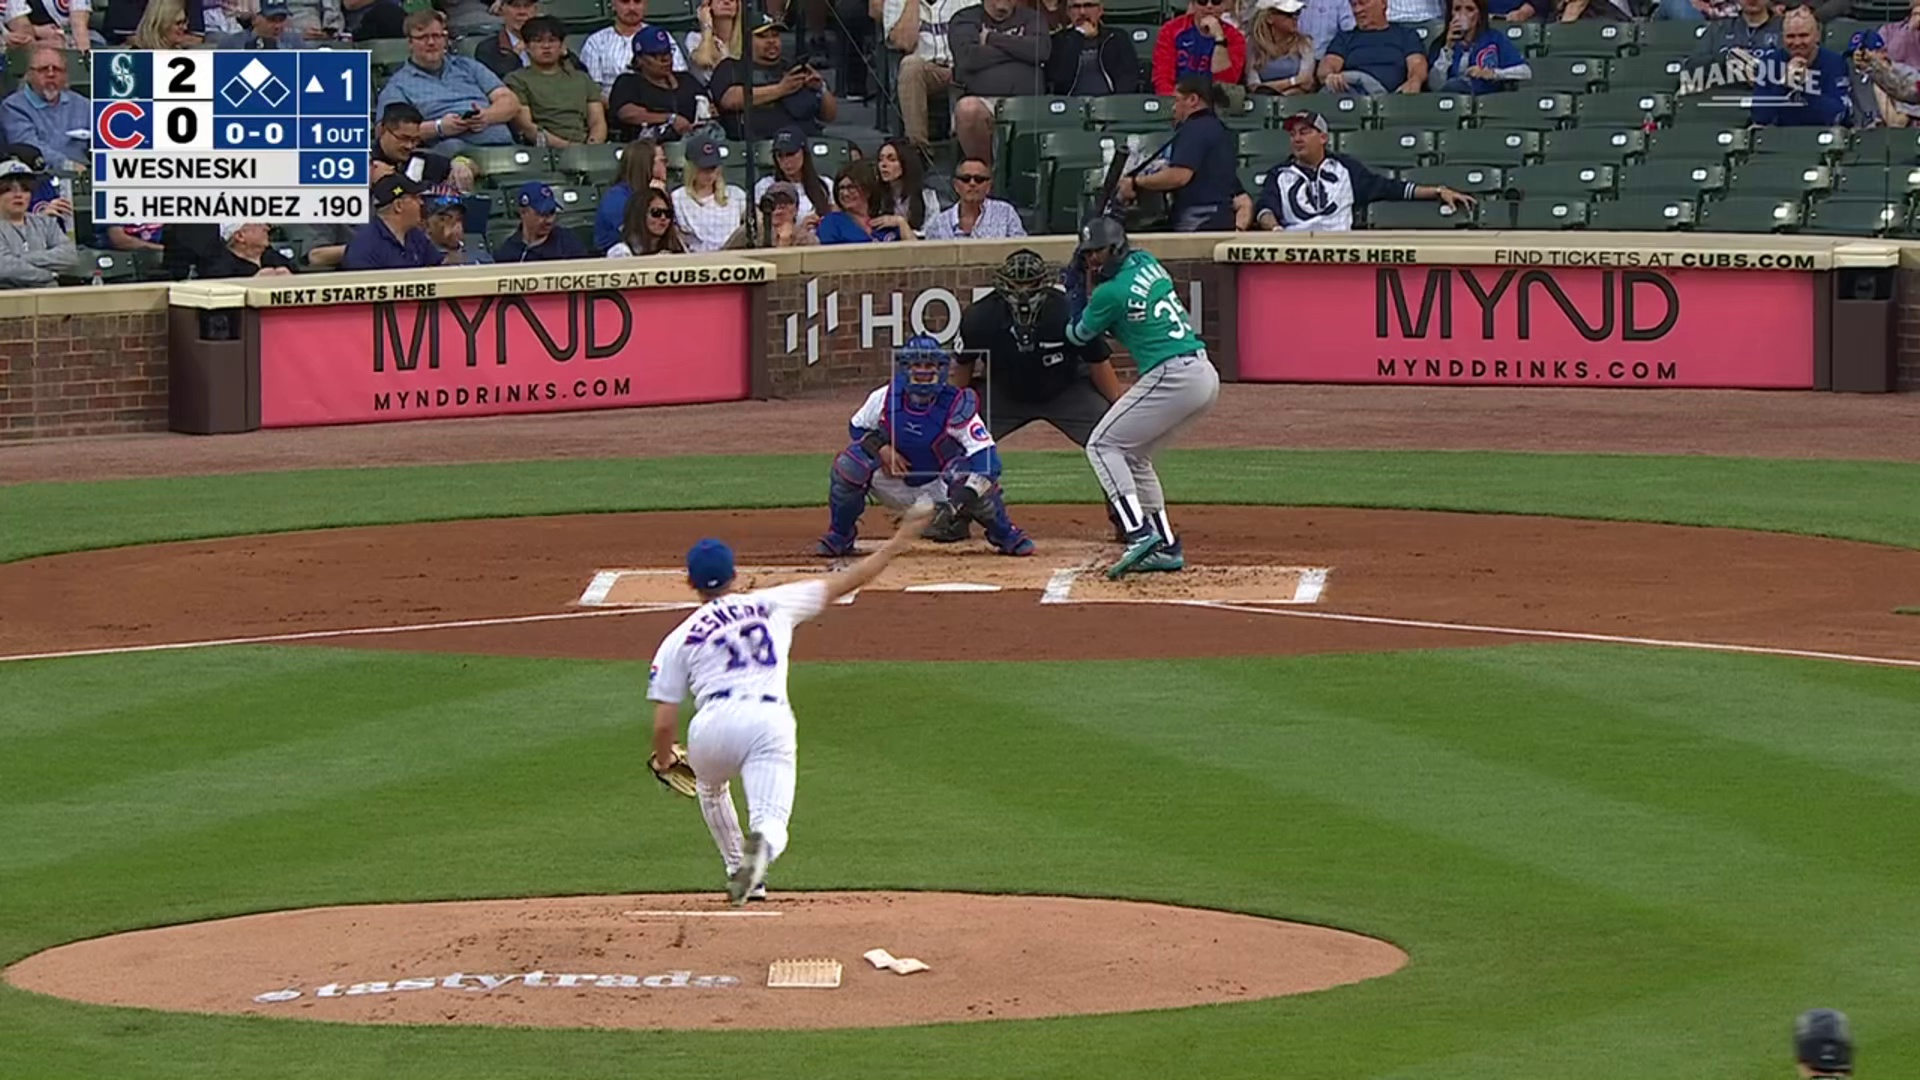baseball: (911, 495, 934, 516)
